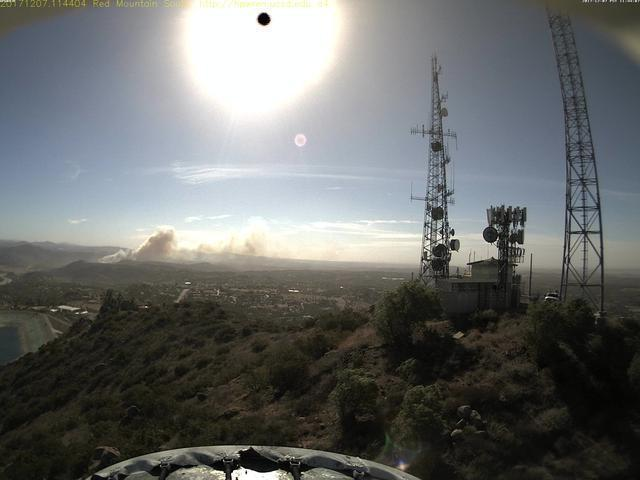Smoke: (90, 221, 276, 266)
